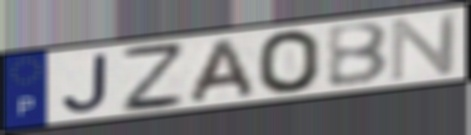A: (184, 36, 259, 106)
B: (323, 19, 392, 90)
J: (59, 51, 111, 115)
N: (388, 10, 462, 84)
O: (254, 27, 324, 96)
Z: (118, 41, 188, 115)
